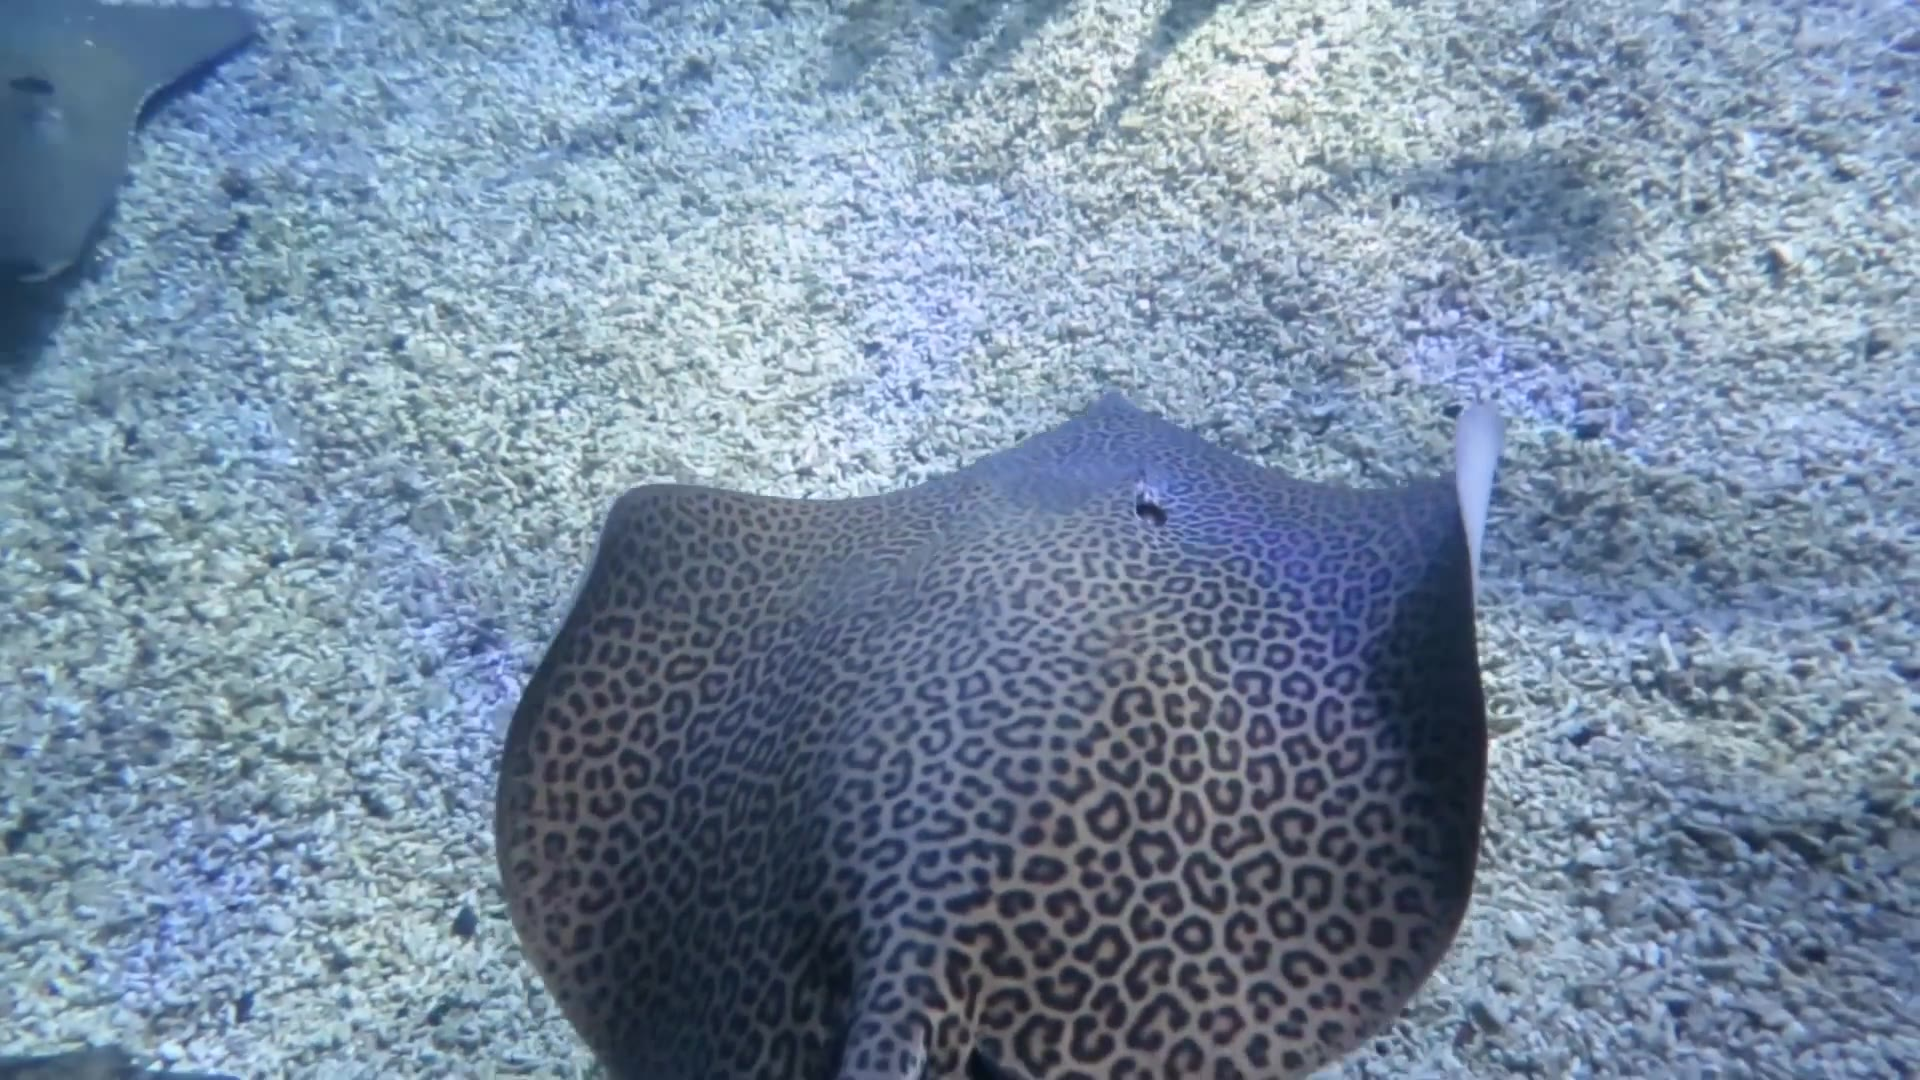Himantura uarnak: (473, 309, 1522, 1080)
